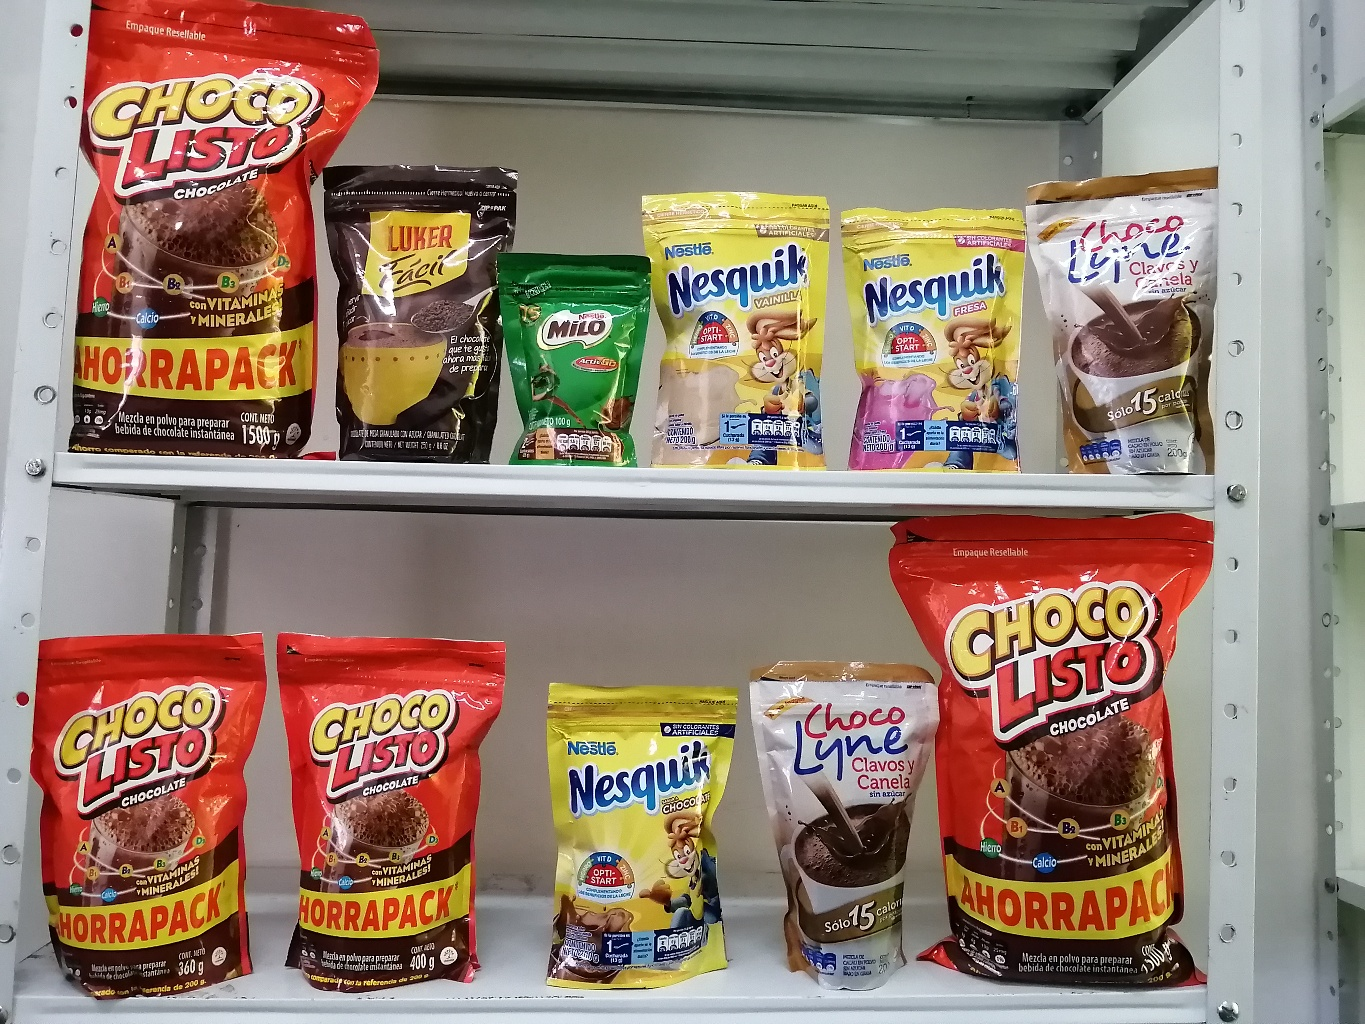COL0170103DYP1,500: (73, 0, 359, 454)
COL0170103DYP36000: (27, 627, 279, 995)
COL0170103DYP40000: (267, 618, 521, 1002)
COL0170203DYP10000: (487, 239, 662, 463)
COL0170303DYP20000: (531, 671, 751, 991)
COL0170305DYP20000: (839, 191, 1029, 471)
COL0170306DYP20000: (639, 171, 825, 465)
